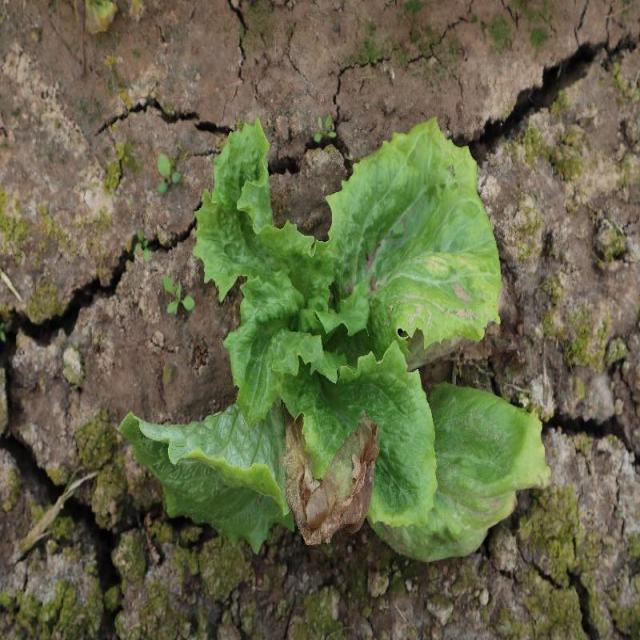crop: (137, 127, 548, 562)
